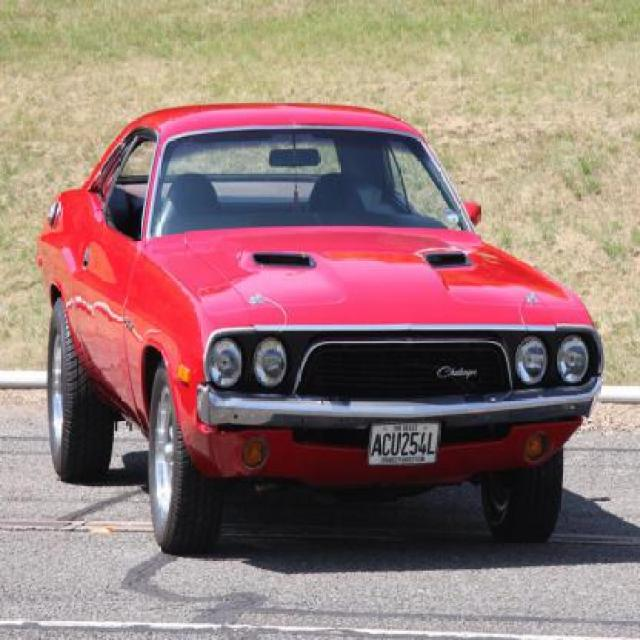License-Plates: (364, 417, 445, 468)
